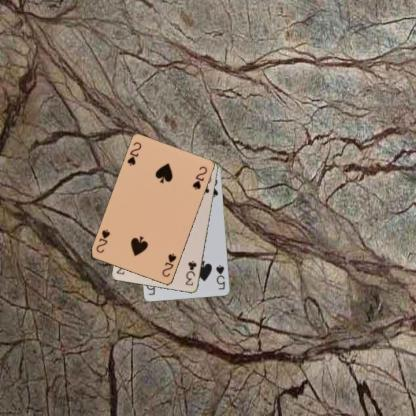2s: (159, 251, 178, 278), (125, 140, 143, 167)
3c: (183, 258, 198, 287)
5s: (214, 262, 226, 291)
